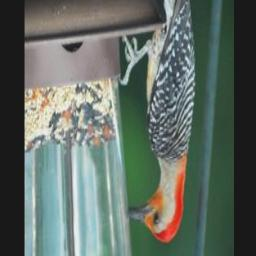Woodpecker: (119, 0, 198, 244)
